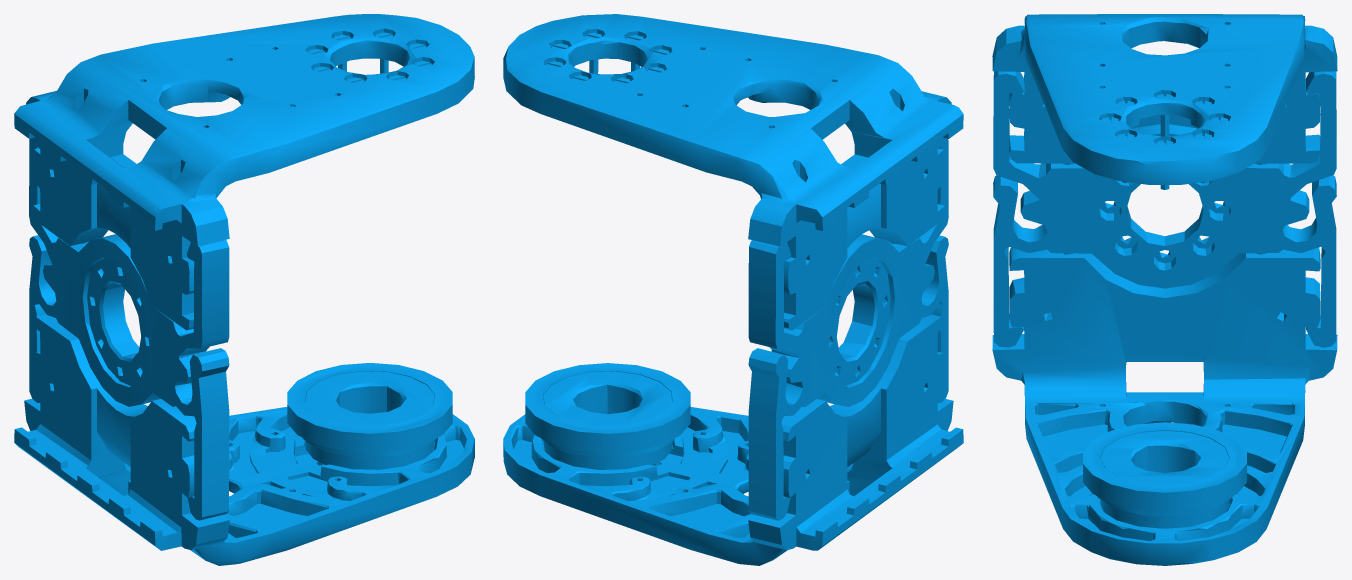
File: la_flg_asm_c_wb_blu.dae
3 views of the same model, side by side, from view 1: azimuth 30°, elevation 25°; view 2: azimuth 150°, elevation 25°; view 3: azimuth 270°, elevation 25° (orthographic).
Parts seen in each view (by area): view 1: la_flg_asm_c_wb_blu; view 2: la_flg_asm_c_wb_blu; view 3: la_flg_asm_c_wb_blu.
Boxes of the visible parts, bbox=[...] form: la_flg_asm_c_wb_blu: bbox=[14, 14, 474, 565]; la_flg_asm_c_wb_blu: bbox=[503, 14, 963, 565]; la_flg_asm_c_wb_blu: bbox=[992, 14, 1337, 565].
Size of the model in its own units: 82.56 by 66.3 by 86.04.
